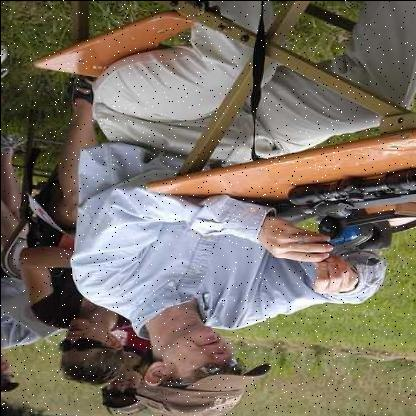rifle: (225, 160, 416, 255)
